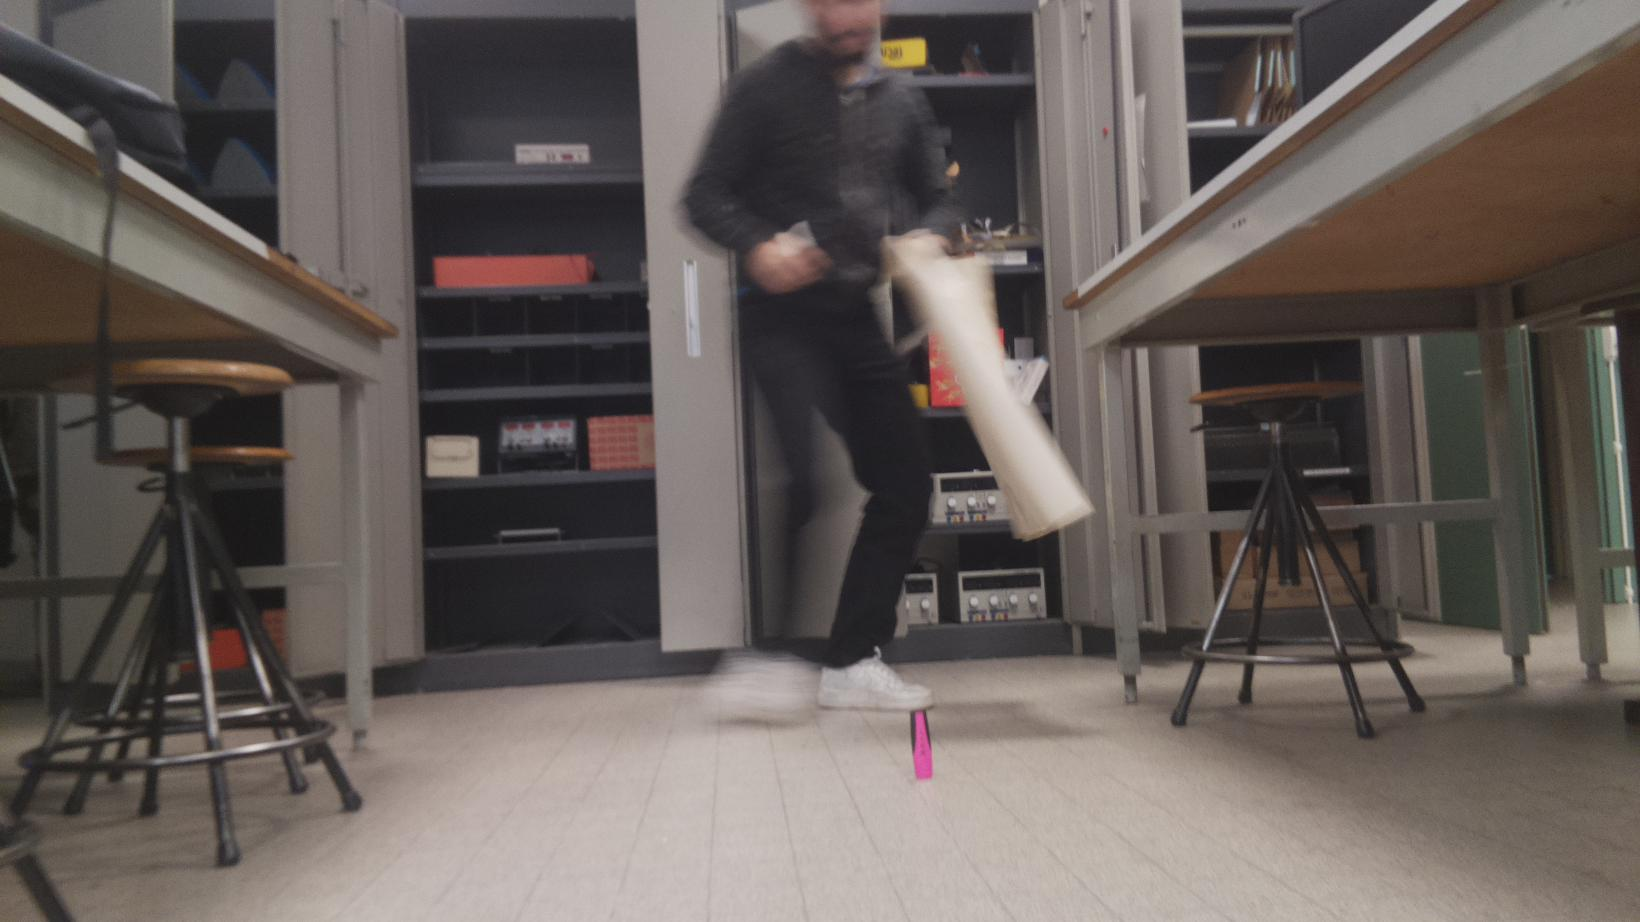small: (907, 708, 937, 782)
